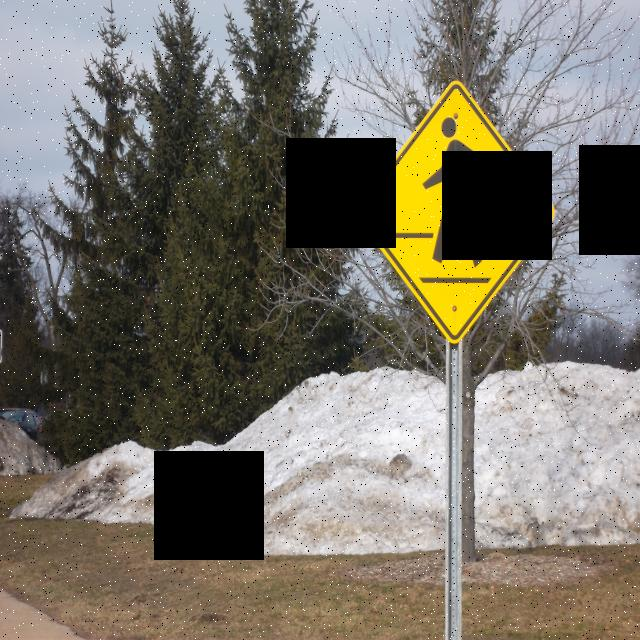warning: (353, 74, 559, 348)
